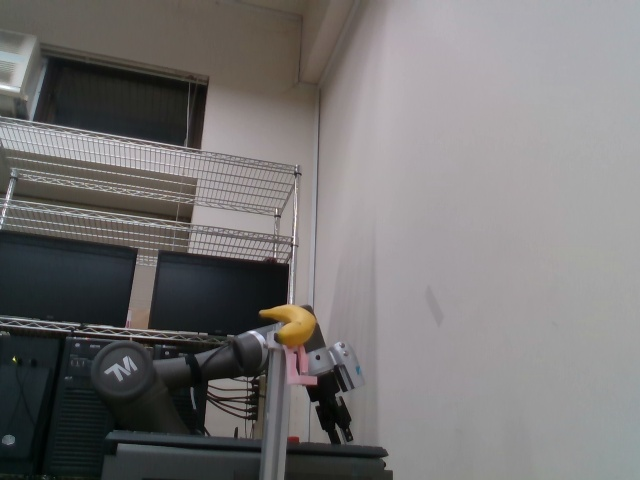banana: (257, 300, 318, 348)
